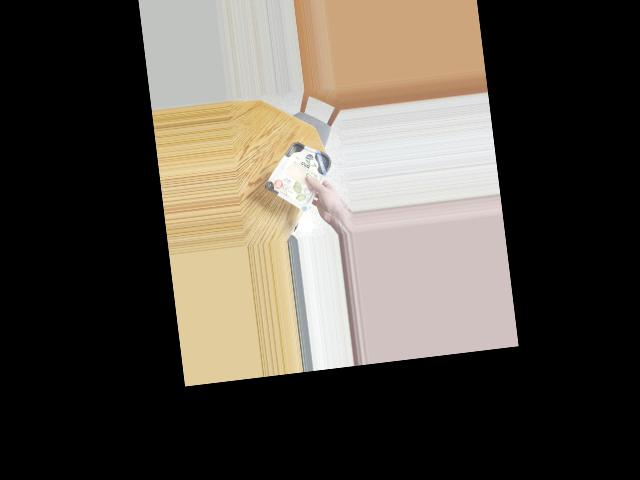cheese: (265, 138, 337, 204)
